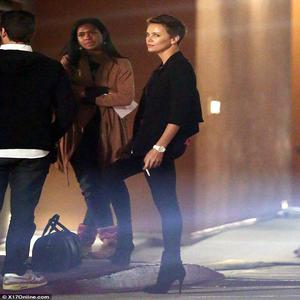cigarette: (144, 167, 151, 176)
